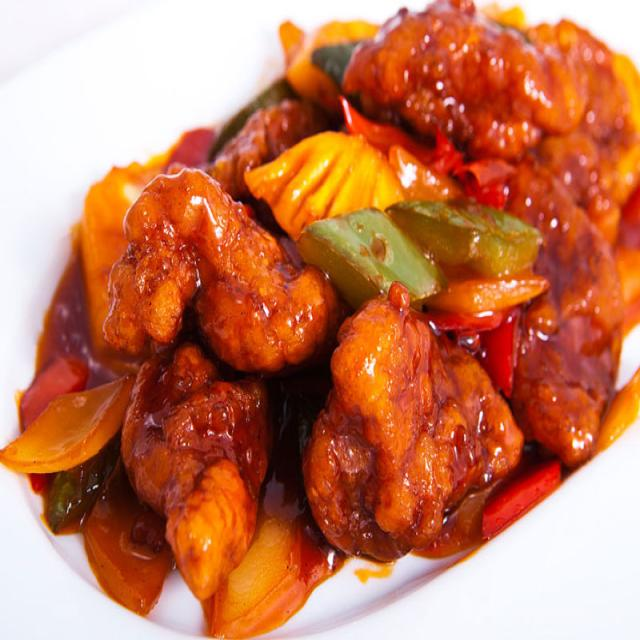suon xao: (0, 0, 639, 635)
